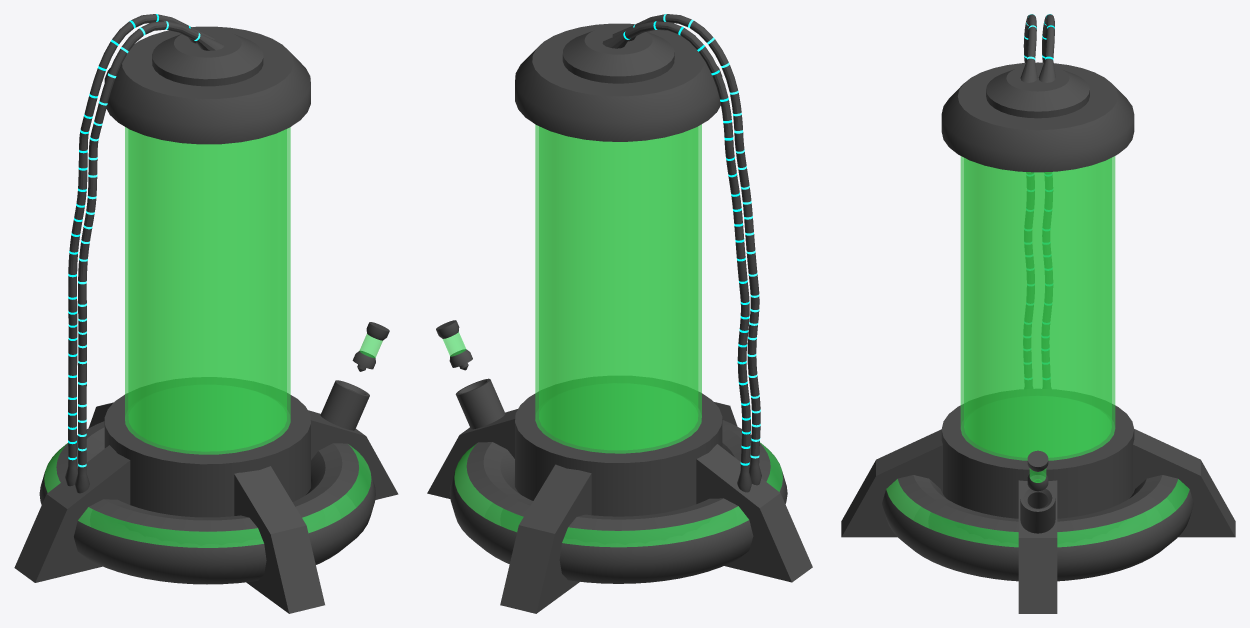
Rendered from simple_alien_capsule.glb.
The picture shows the model from 3 angles, left to right: view 1: azimuth 30°, elevation 25°; view 2: azimuth 150°, elevation 25°; view 3: azimuth 270°, elevation 25°; orthographic projection. The views are drawn at different scales.
Visible parts, largest first — view 1: Base.2, Glass, Base, Pipe1, Pipe2, Capsule; view 2: Base.2, Glass, Base, Pipe2, Pipe1, Capsule; view 3: Base.2, Glass, Base, Pipe1, Pipe2, Capsule.
Part boxes in pixels (x1,y1,x2,y2): Base.2: (14, 26, 398, 613); Glass: (125, 127, 290, 454); Base: (39, 421, 375, 584); Pipe1: (75, 21, 224, 493); Pipe2: (65, 14, 214, 486); Capsule: (352, 322, 389, 371); Base.2: (427, 23, 812, 613); Glass: (535, 124, 701, 453); Base: (449, 420, 787, 583); Pipe2: (602, 21, 751, 492); Pipe1: (612, 14, 761, 485); Capsule: (436, 320, 472, 370); Base.2: (841, 62, 1235, 613); Glass: (960, 156, 1115, 460); Base: (882, 475, 1193, 581); Pipe1: (1020, 14, 1037, 388); Pipe2: (1038, 14, 1055, 388); Capsule: (1027, 450, 1048, 491).
Bounding box in the file's own units: 7.62 × 10.51 × 7.69.
